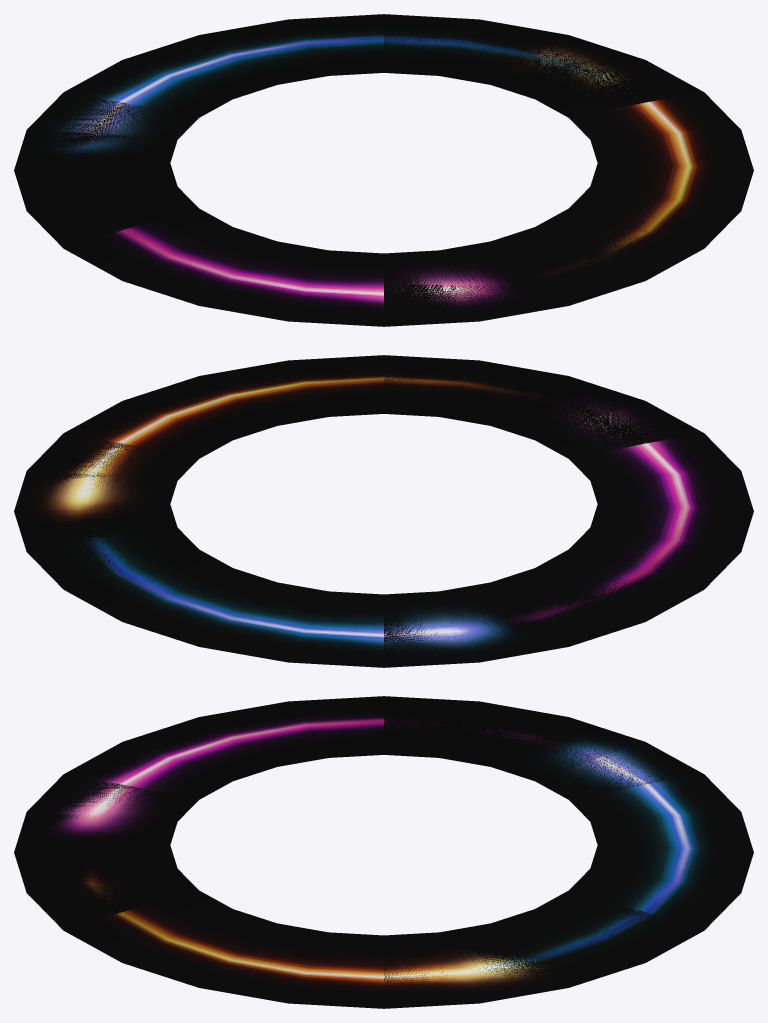
File: paotai_zhuanquan.FBX
The picture shows the model from 3 angles, top to bottom: view 1: azimuth 30°, elevation 25°; view 2: azimuth 150°, elevation 25°; view 3: azimuth 270°, elevation 25°; orthographic projection.
Visible parts, largest first — view 1: paotai_zhuanquan; view 2: paotai_zhuanquan; view 3: paotai_zhuanquan.
Part boxes in pixels (bbox=[...]): paotai_zhuanquan: bbox=[14, 14, 753, 326]; paotai_zhuanquan: bbox=[14, 355, 753, 667]; paotai_zhuanquan: bbox=[14, 696, 753, 1008].
Bounding box in the file's own units: 127 × 1.39 × 127.
